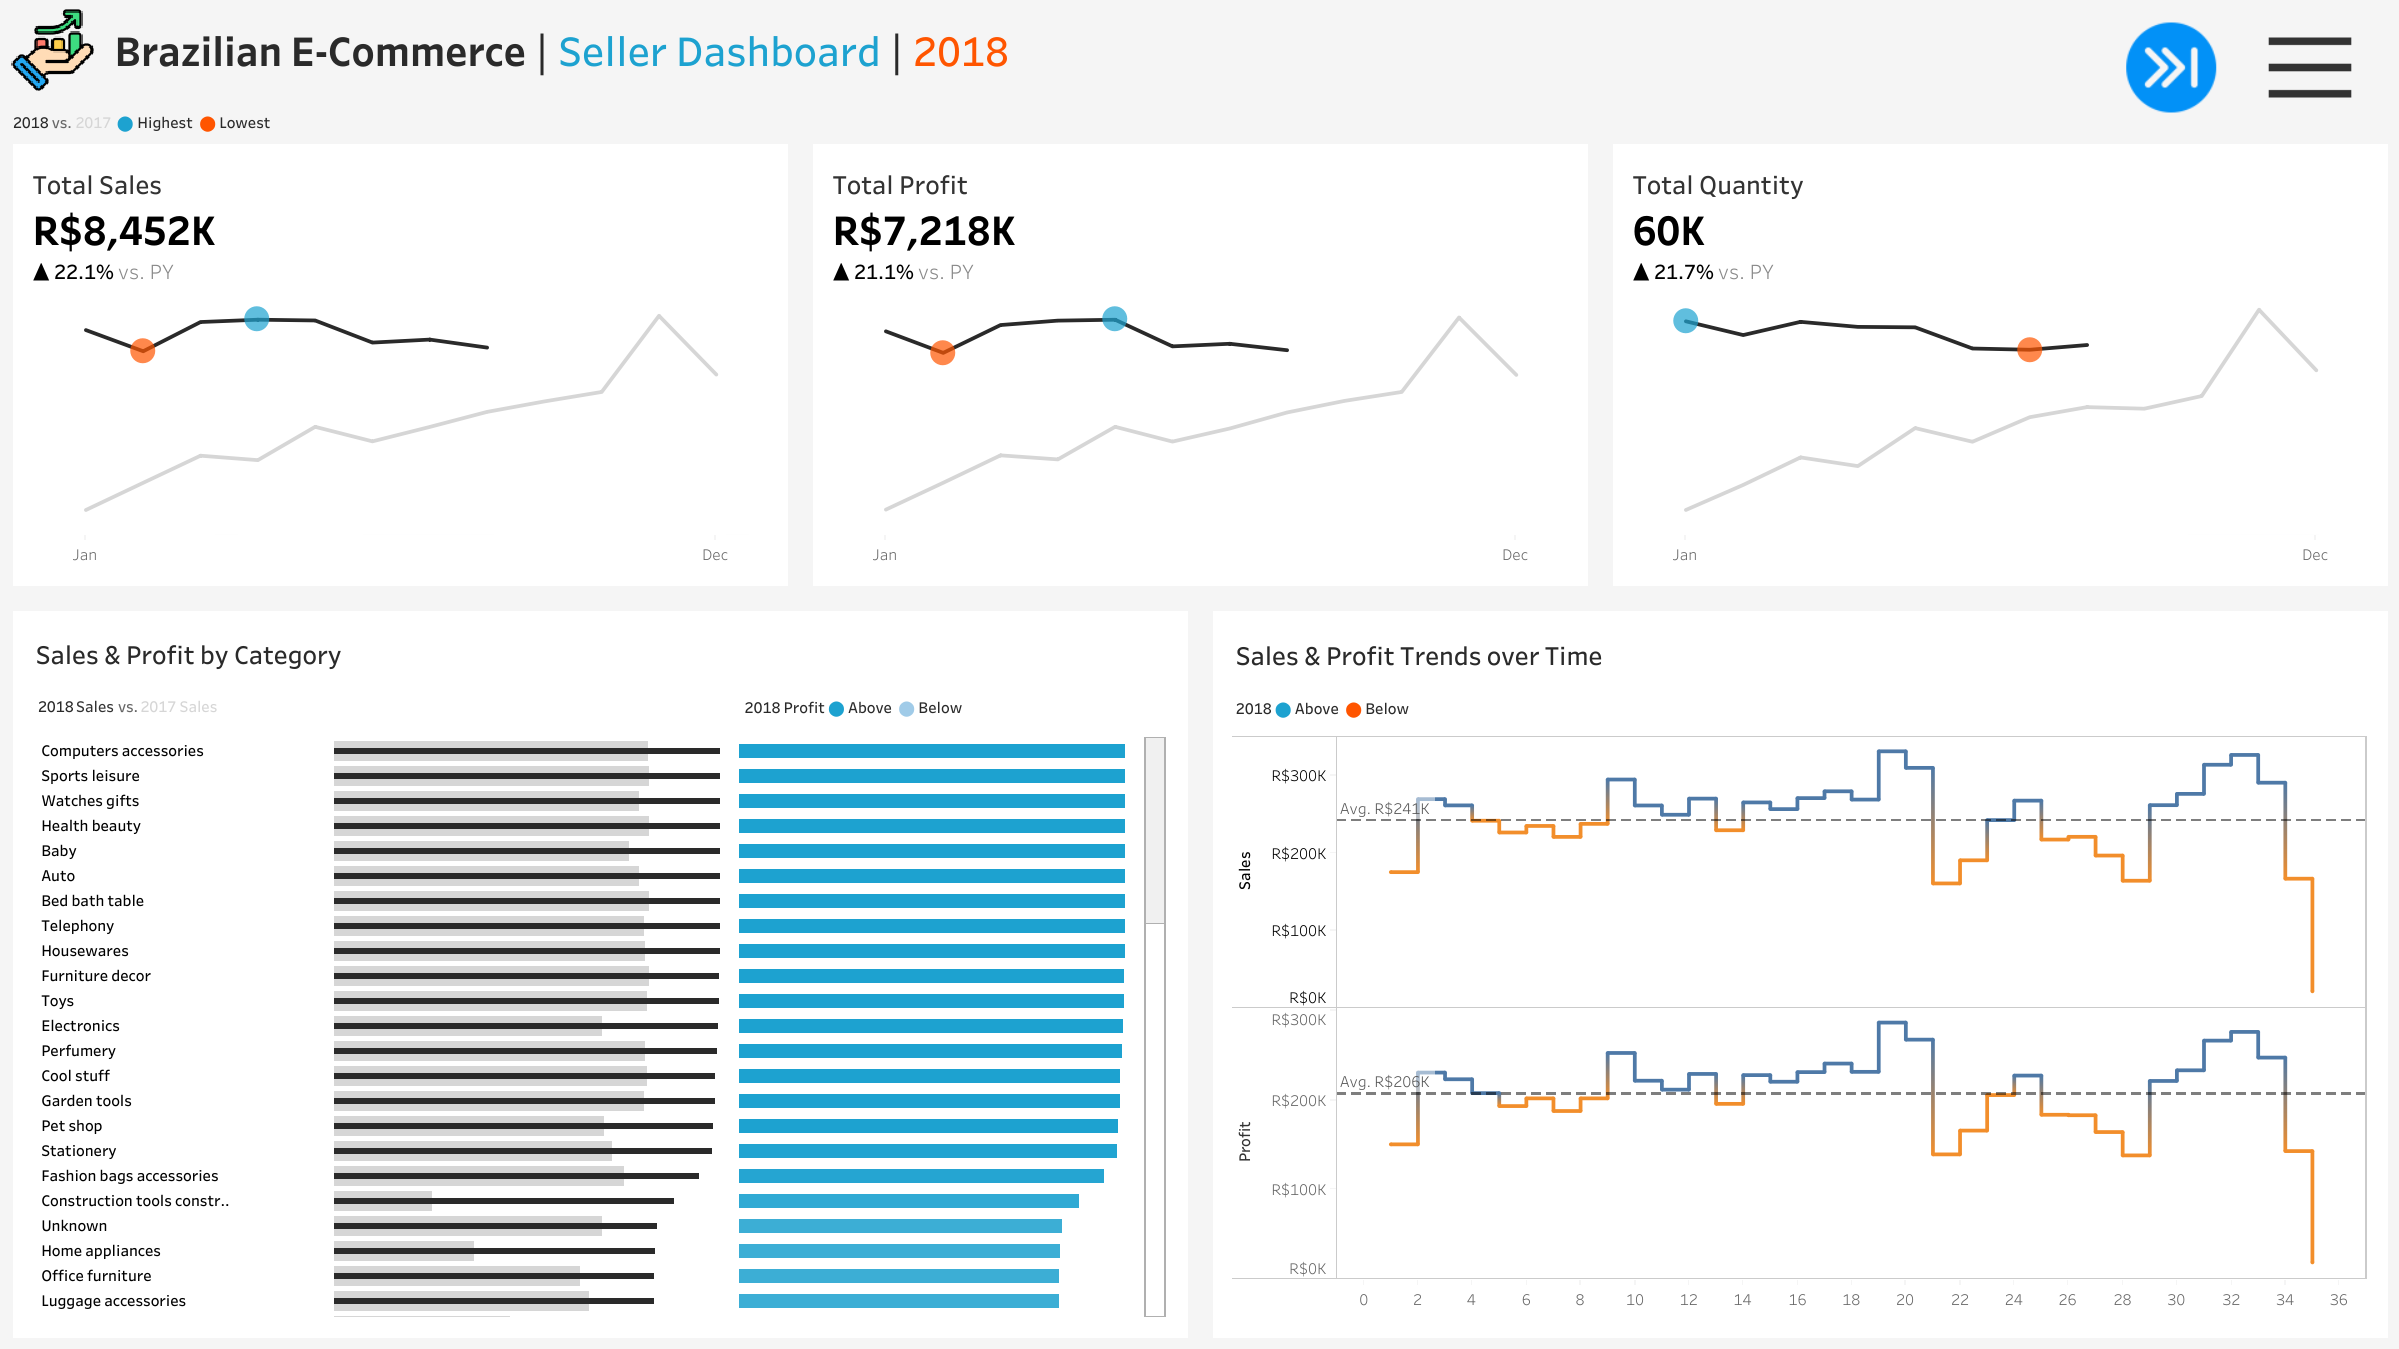

The dashboard page shown, as its layout file describes it:
{"tool":"tableau","page":{"name":"Dashboard 1","canvas":[1920,1080],"ordinal":0},"visuals":[{"type":"image","param":"Image/7298311.png","box":[0,0,85,80]},{"type":"text","box":[85,0,1611,80]},{"type":"blank","box":[1555,10,354,101]},{"type":"dashboard-object","box":[1682,14,111,80]},{"type":"dashboard-object","box":[1793,14,111,80]},{"type":"worksheet","title":"Legend KPI","mark":"Automatic","box":[0,80,1920,35]},{"type":"text","box":[1555,111,354,40]},{"type":"worksheet","title":"KPI Sales","mark":"Automatic","rows":["Calculation_992480833914015744"],"cols":["order_date"],"box":[0,115,640,364]},{"type":"worksheet","title":"KPI Profit","mark":"Automatic","rows":["Calculation_992480833929281545"],"cols":["order_date"],"box":[640,115,640,364]},{"type":"worksheet","title":"KPI Quantity","mark":"Automatic","rows":["Min/Max Sales (copy)_606297165906898949"],"cols":["order_date (Sales Quantity.csv)"],"box":[1280,115,640,364]},{"type":"parameter","param":"[Parameters].[Parameter 1]","box":[1555,151,354,56]},{"type":"filter","title":"KPI Sales","param":"[federated.1ima0qm1vas6bi1fhh8e80a4kazl].[Action (Product Category Name Englishh","box":[1555,207,354,863]},{"type":"text","box":[22,501,916,44.5]},{"type":"text","box":[982,501,916,44.7]},{"type":"worksheet","title":"Legend Category Comparison","mark":"Automatic","box":[22,545.5,567,39.9]},{"type":"text","box":[589,545.5,349,39.9]},{"type":"text","box":[982,545.7,916,39.8]},{"type":"worksheet","title":"Category Comparison","mark":"Bar","rows":["product_category_name_englishh","Calculation_1612007257712508928"],"cols":["Calculation_1812698916041936896","CY Profit (copy)_1812698916042412033","Calculation_992480833927065606"],"box":[22,585,916,473]},{"type":"worksheet","title":"Weekly Trends","mark":"Automatic","rows":["CY Profit (copy)_1812698916042412033","Calculation_992480833927065606"],"cols":["order_date"],"box":[982,585.5,916,472.5]}]}

Visuals, with their boxes in screenshot pixels (x1, y1, x2, y2), scaled from the page's 1920x1080 canvas onto the 2399x1349 screenshot:
image: (left=0, top=0, right=106, bottom=100)
text: (left=106, top=0, right=2119, bottom=100)
blank: (left=1943, top=12, right=2385, bottom=139)
dashboard-object: (left=2102, top=17, right=2240, bottom=117)
dashboard-object: (left=2240, top=17, right=2379, bottom=117)
"Legend KPI" worksheet: (left=0, top=100, right=2398, bottom=144)
text: (left=1943, top=139, right=2385, bottom=189)
"KPI Sales" worksheet: (left=0, top=144, right=800, bottom=598)
"KPI Profit" worksheet: (left=800, top=144, right=1599, bottom=598)
"KPI Quantity" worksheet: (left=1599, top=144, right=2398, bottom=598)
parameter: (left=1943, top=189, right=2385, bottom=259)
"KPI Sales" filter: (left=1943, top=259, right=2385, bottom=1337)
text: (left=27, top=626, right=1172, bottom=681)
text: (left=1227, top=626, right=2372, bottom=682)
"Legend Category Comparison" worksheet: (left=27, top=681, right=736, bottom=731)
text: (left=736, top=681, right=1172, bottom=731)
text: (left=1227, top=682, right=2372, bottom=731)
"Category Comparison" worksheet (Bar marks): (left=27, top=731, right=1172, bottom=1322)
"Weekly Trends" worksheet: (left=1227, top=731, right=2372, bottom=1322)
